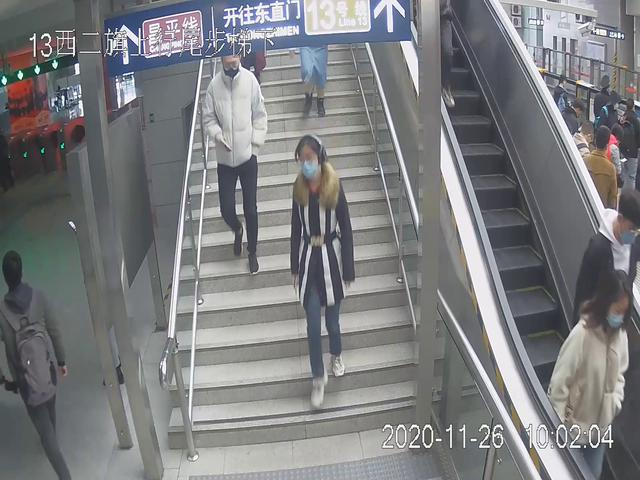person: (284, 130, 362, 413), (544, 266, 631, 480), (1, 246, 72, 480), (198, 43, 268, 279)
